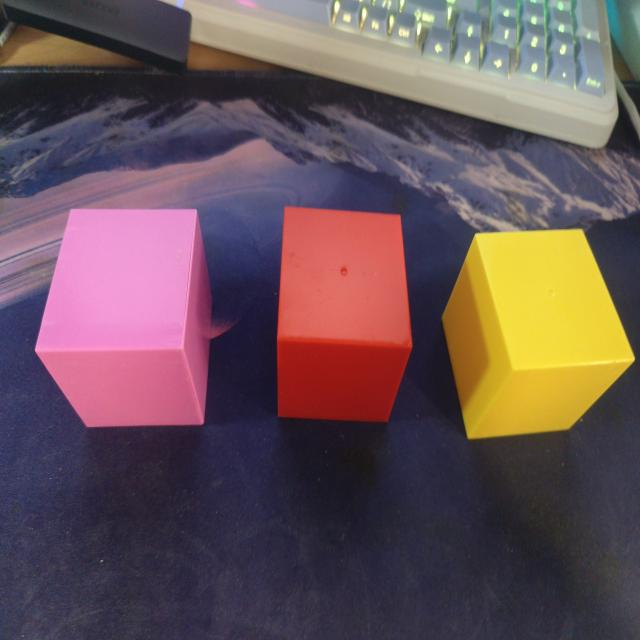pink: (30, 195, 215, 436)
red: (273, 192, 416, 426)
yellow: (436, 218, 640, 449)
